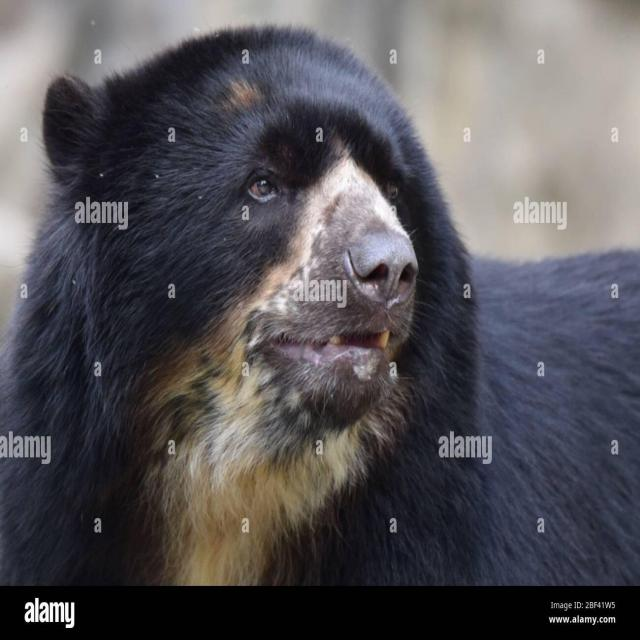Bear: (0, 25, 640, 589)
